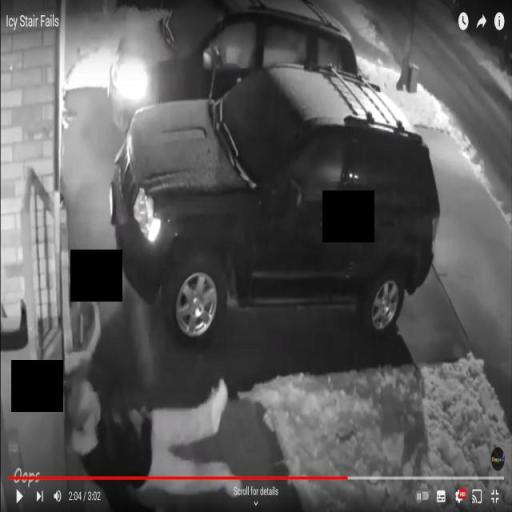Fall: (61, 368, 247, 502)
